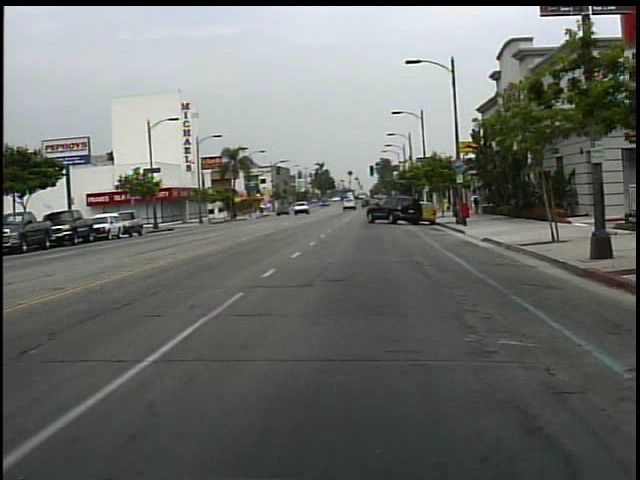person: (471, 189, 486, 219)
